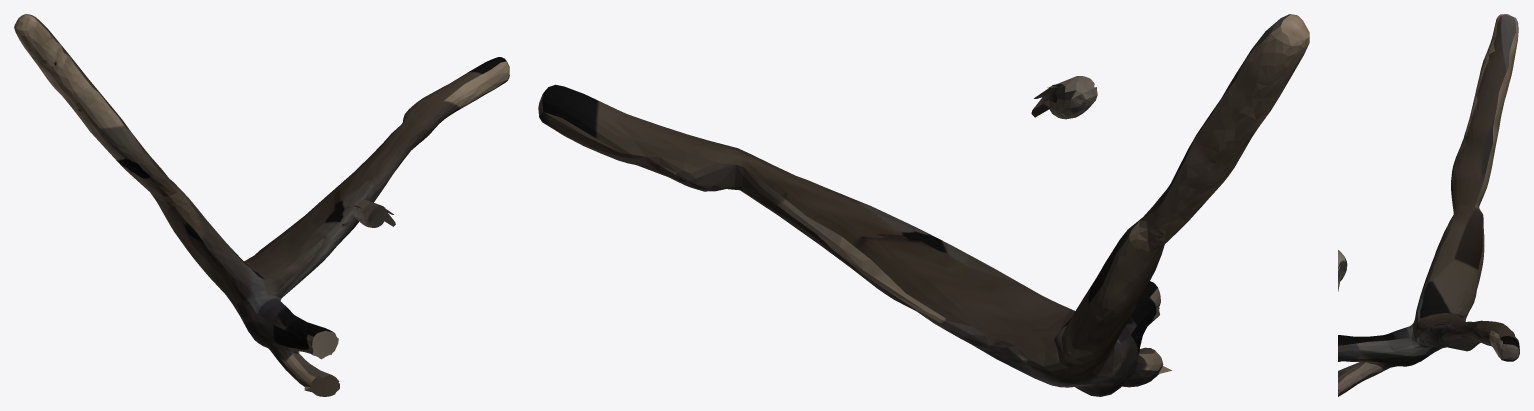
Rendered from chair_1_base.glb.
3 views of the same model, side by side, from view 1: azimuth 30°, elevation 25°; view 2: azimuth 150°, elevation 25°; view 3: azimuth 270°, elevation 25° (orthographic). The views are drawn at different scales.
Visible parts, largest first — view 1: chair_1_base.obj; view 2: chair_1_base.obj; view 3: chair_1_base.obj.
Part boxes in pixels (left/top/right/bottom): chair_1_base.obj: left=14, top=14, right=509, bottom=396; chair_1_base.obj: left=538, top=14, right=1309, bottom=396; chair_1_base.obj: left=1338, top=14, right=1519, bottom=396.
Size of the model in its own units: 0.6792 by 0.4714 by 0.2598.
1 material, 1 textured.
